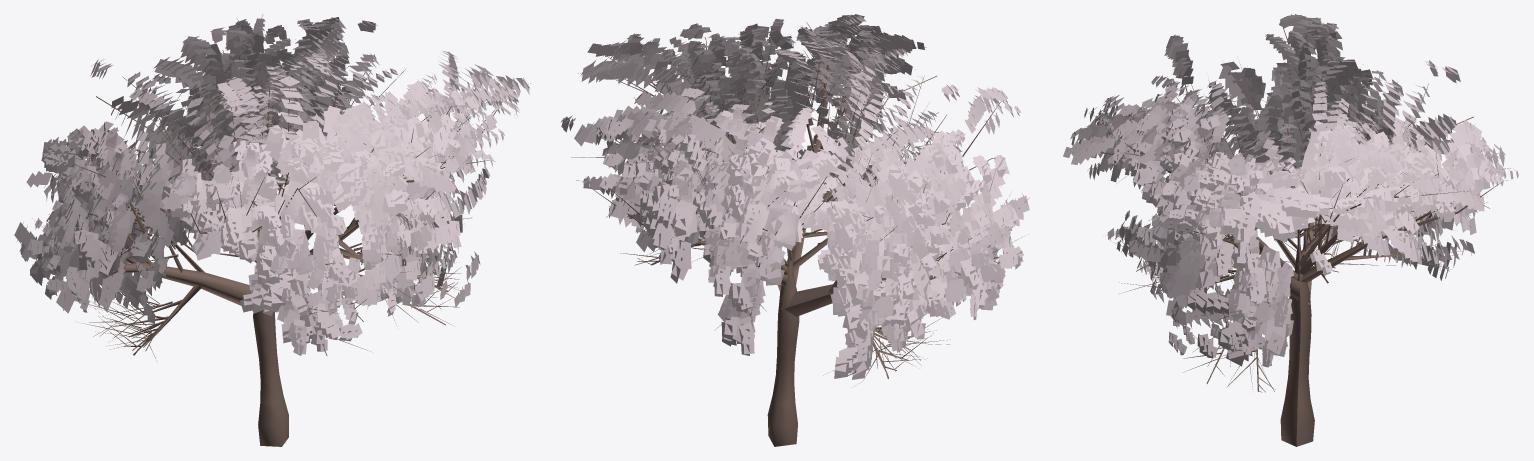
File: sakura-natural-spreading.glb
3 renders of one model, left to right at view 1: azimuth 30°, elevation 25°; view 2: azimuth 150°, elevation 25°; view 3: azimuth 270°, elevation 25°, orthographic. The views are drawn at different scales.
Bounding box in the file's own units: 12.31 × 9.2 × 11.01.
